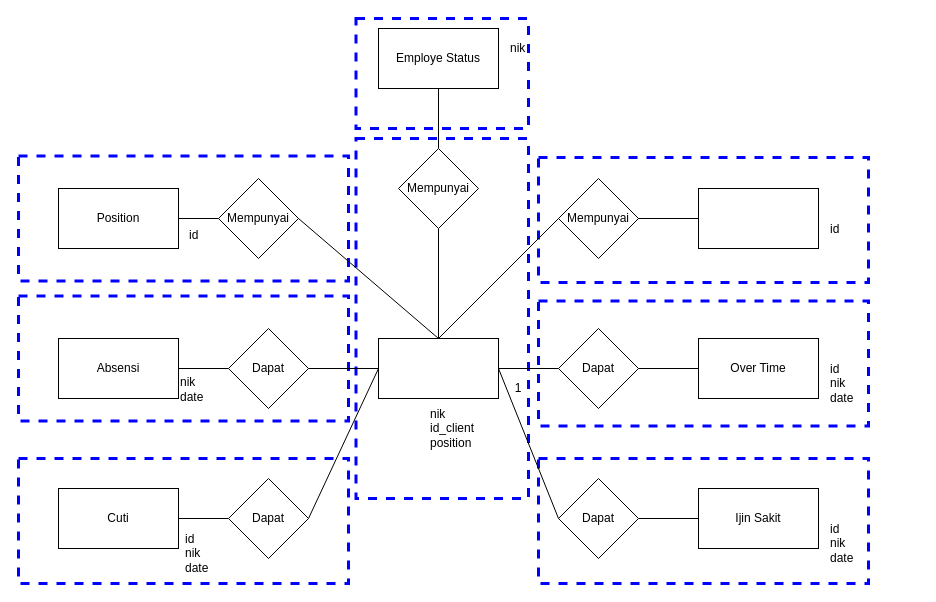
This 936x602 diagram has some shape labels left out. Each missing label, with the centre of its shape:
Client: (758,218)
Employee: (438,368)
